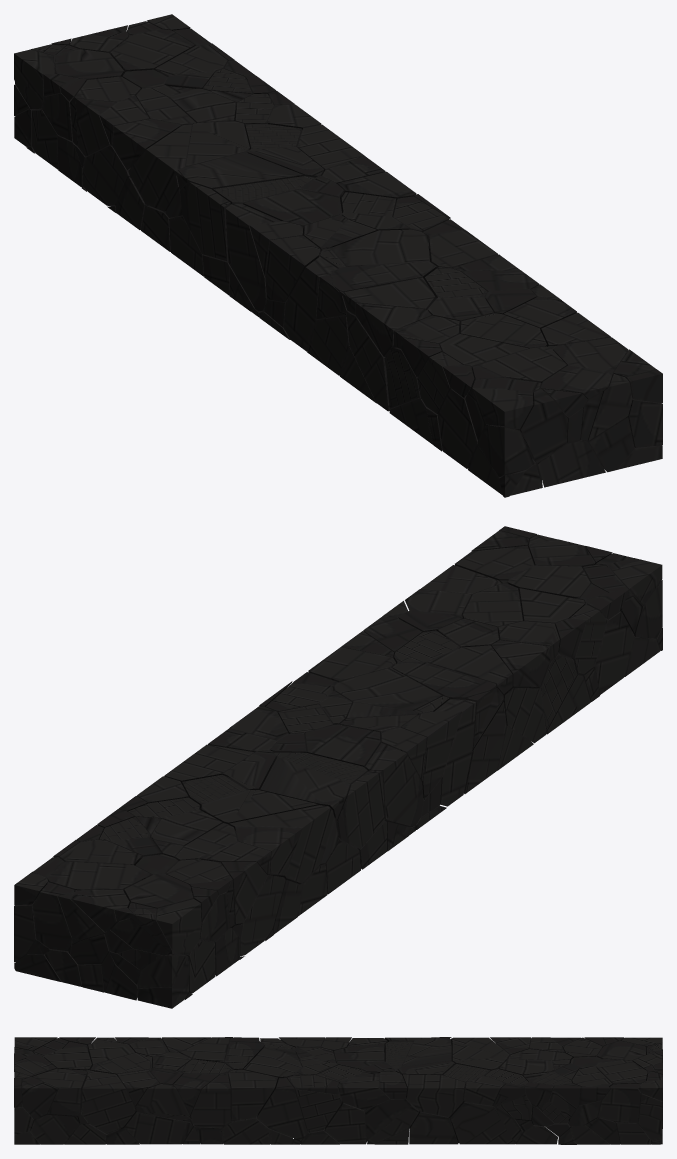
The model's file is mur qui explose 1.fbx.
3 renders of one model, top to bottom at view 1: azimuth 30°, elevation 25°; view 2: azimuth 150°, elevation 25°; view 3: azimuth 270°, elevation 25°, orthographic. The views are drawn at different scales.
Parts seen in each view (by area): view 1: Cube_cell.015, Cube_cell.110, Cube_cell.069, Cube_cell.117, Cube_cell.081, Cube_cell.033, Cube_cell.036, Cube_cell.098, Cube_cell.167, Cube_cell.180, Cube_cell.182, Cube_cell.076 (+67 smaller); view 2: Cube_cell.015, Cube_cell.110, Cube_cell.069, Cube_cell.117, Cube_cell.081, Cube_cell.033, Cube_cell.036, Cube_cell.098, Cube_cell.167, Cube_cell.182, Cube_cell.076, Cube_cell.074 (+71 smaller); view 3: Cube_cell.195, Cube_cell.142, Cube_cell, Cube_cell.124, Cube_cell.133, Cube_cell.168, Cube_cell.078, Cube_cell.022, Cube_cell.103, Cube_cell.122, Cube_cell.190, Cube_cell.077 (+79 smaller).
Boxes of the visible parts, <box> form: Cube_cell.015: <box>128,124,192,211</box>; Cube_cell.110: <box>225,203,281,311</box>; Cube_cell.069: <box>331,229,429,266</box>; Cube_cell.117: <box>177,152,302,189</box>; Cube_cell.081: <box>180,182,230,260</box>; Cube_cell.033: <box>265,235,320,302</box>; Cube_cell.036: <box>284,257,337,351</box>; Cube_cell.098: <box>243,189,341,228</box>; Cube_cell.167: <box>110,29,194,76</box>; Cube_cell.180: <box>516,388,567,463</box>; Cube_cell.182: <box>186,121,249,166</box>; Cube_cell.076: <box>437,388,477,468</box>; Cube_cell.015: <box>228,805,334,884</box>; Cube_cell.110: <box>365,743,423,826</box>; Cube_cell.069: <box>335,667,441,710</box>; Cube_cell.117: <box>260,757,349,820</box>; Cube_cell.081: <box>337,770,384,849</box>; Cube_cell.033: <box>401,711,462,799</box>; Cube_cell.036: <box>435,699,476,806</box>; Cube_cell.098: <box>293,724,381,767</box>; Cube_cell.167: <box>47,861,151,891</box>; Cube_cell.182: <box>201,790,318,824</box>; Cube_cell.076: <box>589,611,634,694</box>; Cube_cell.074: <box>392,662,496,698</box>; Cube_cell.195: <box>81,1071,135,1133</box>; Cube_cell.142: <box>450,1102,522,1144</box>; Cube_cell: <box>402,1074,465,1116</box>; Cube_cell.124: <box>287,1075,342,1132</box>; Cube_cell.133: <box>257,1077,307,1140</box>; Cube_cell.168: <box>228,1069,277,1121</box>; Cube_cell.078: <box>121,1110,192,1144</box>; Cube_cell.022: <box>191,1072,230,1128</box>; Cube_cell.103: <box>32,1068,87,1116</box>; Cube_cell.122: <box>598,1083,641,1123</box>; Cube_cell.190: <box>136,1084,190,1122</box>; Cube_cell.077: <box>338,1072,389,1110</box>.
Size of the model in its own units: 880 by 456 by 4721.
